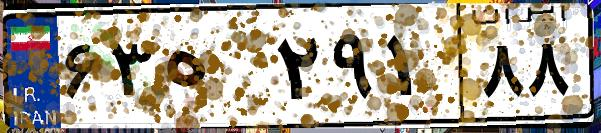1: (385, 28, 445, 110)
2: (270, 28, 330, 110)
3: (110, 28, 158, 98)
6: (57, 26, 110, 100)
8: (475, 38, 525, 113), (525, 38, 570, 115)
9: (330, 28, 385, 110)
ه: (158, 20, 270, 120)
